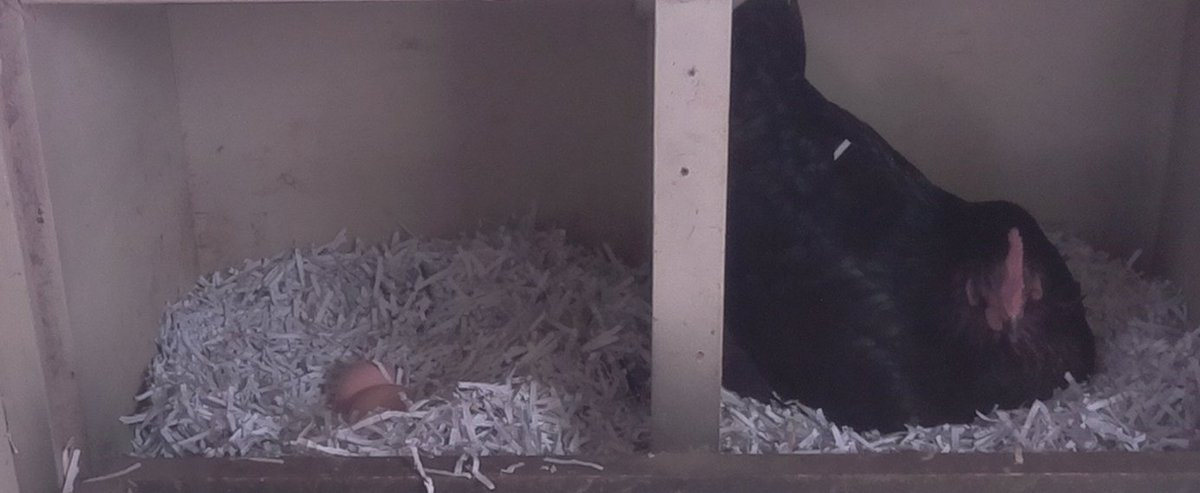egg: (332, 361, 398, 400), (343, 383, 408, 418)
hen: (734, 11, 1104, 429)
